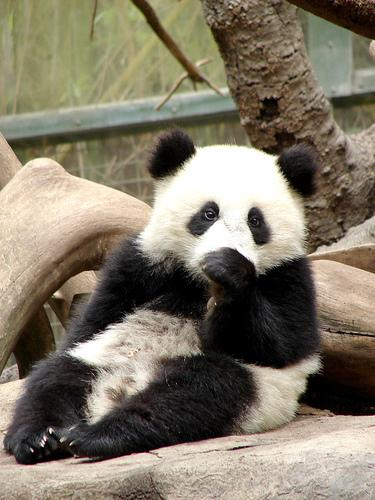panda: (6, 131, 320, 463)
